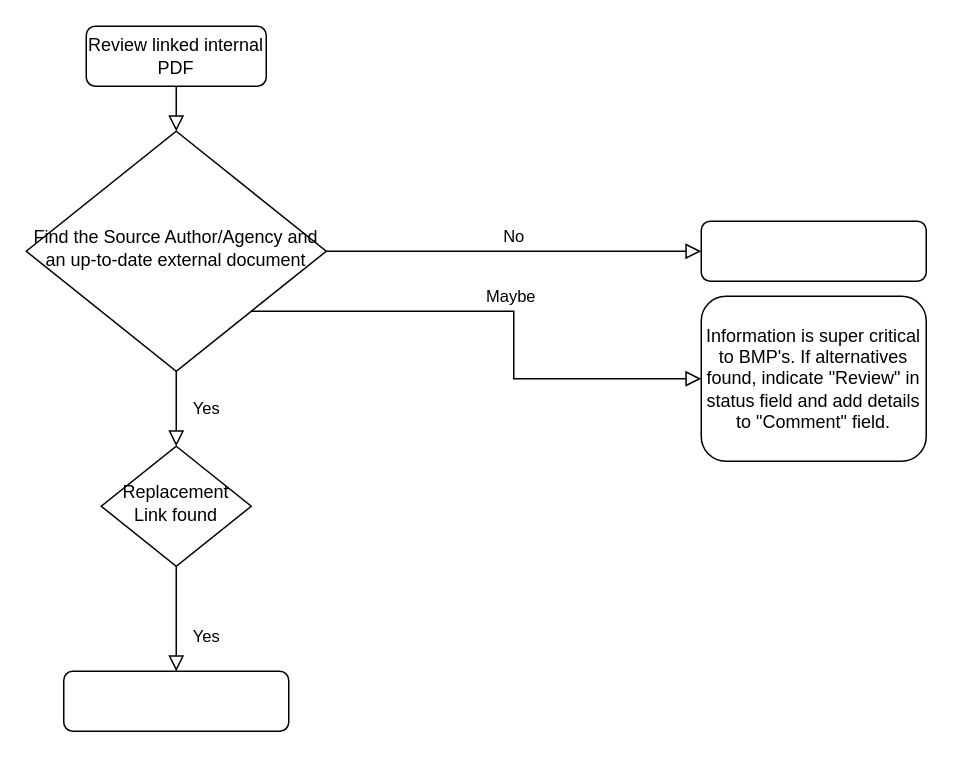
Some shapes in this 953 by 758 pixel diagram are drawn without their labels. Each missing label, with the box of its shape:
Add new link to "Replacement URL" field: (62, 670, 289, 731)
Indicate "Delete" in the status field: (700, 220, 926, 281)
